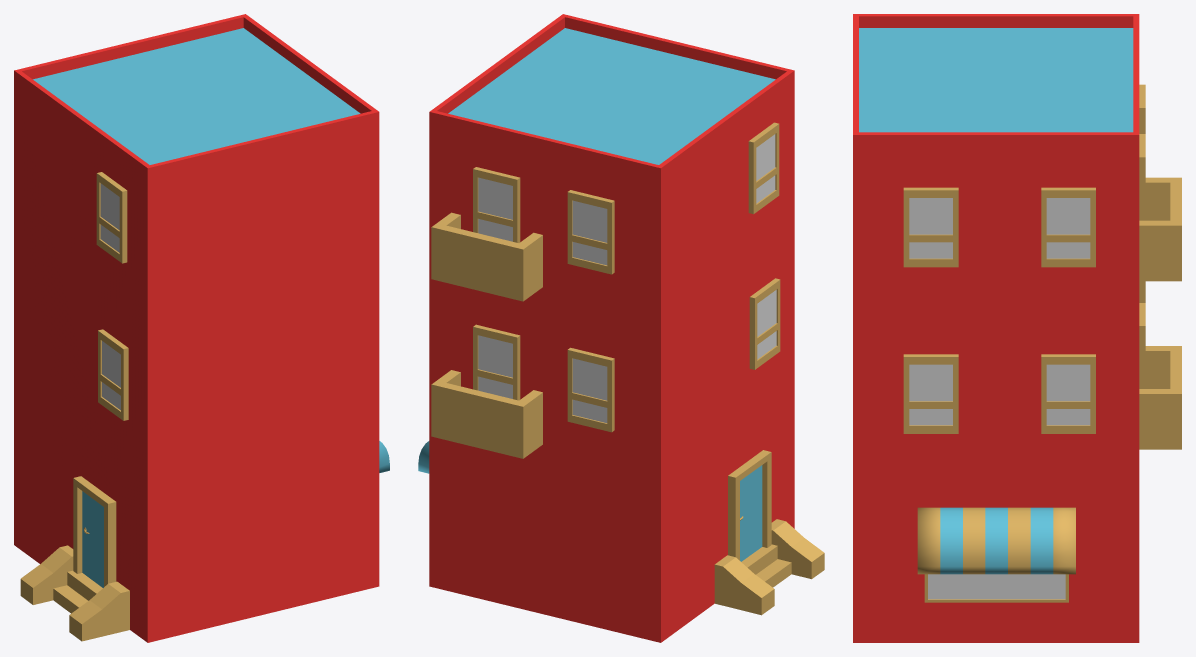
File: Complete_Building_1.fbx
3 views of the same model, side by side, from view 1: azimuth 30°, elevation 25°; view 2: azimuth 150°, elevation 25°; view 3: azimuth 270°, elevation 25° (orthographic). The views are drawn at different scales.
Parts seen in each view (by area): view 1: Building_1; view 2: Building_1; view 3: Building_1.
Part boxes in pixels (x1,y1,x2,y2): Building_1: (14, 14, 389, 642); Building_1: (418, 14, 824, 642); Building_1: (853, 14, 1181, 642).
Size of the model in its own units: 6.98 by 9.89 by 5.8.
